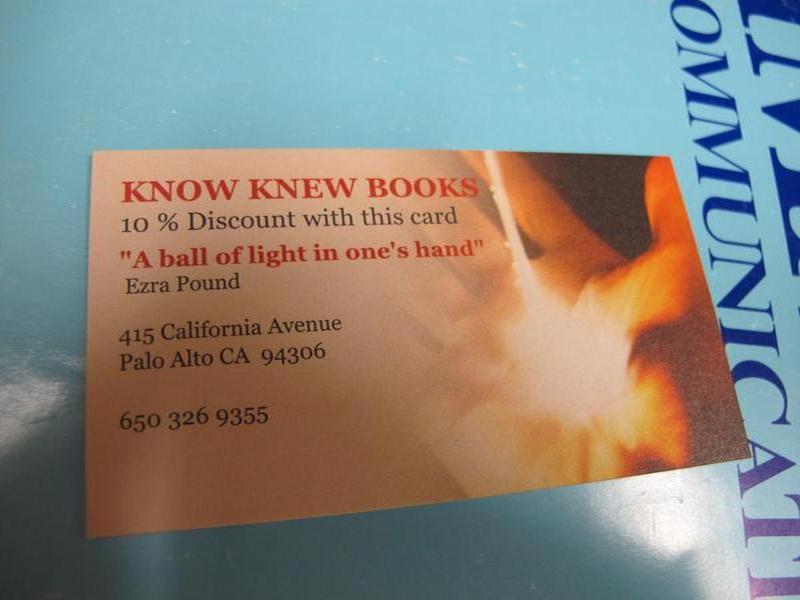card: (84, 147, 755, 535)
